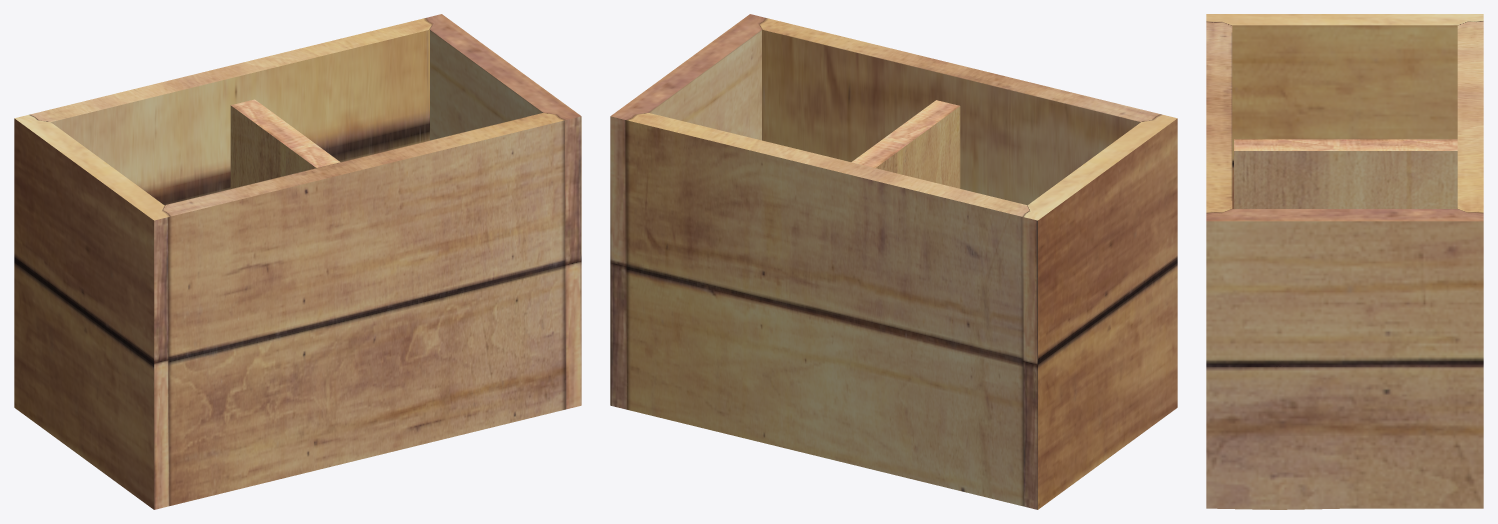
Rendered from Garden Bed 2.fbx.
3 renders of one model, left to right at view 1: azimuth 30°, elevation 25°; view 2: azimuth 150°, elevation 25°; view 3: azimuth 270°, elevation 25°, orthographic.
Visible parts, largest first — view 1: pasted__pasted__pCube5, pasted__pasted__pCube6; view 2: pasted__pasted__pCube5, pasted__pasted__pCube6; view 3: pasted__pasted__pCube5, pasted__pasted__pCube6.
Part boxes in pixels (box(x1,y1,x2,y2)): pasted__pasted__pCube5: box(14, 14, 581, 509); pasted__pasted__pCube6: box(230, 99, 340, 188); pasted__pasted__pCube5: box(610, 14, 1177, 509); pasted__pasted__pCube6: box(851, 100, 960, 188); pasted__pasted__pCube5: box(1206, 14, 1483, 509); pasted__pasted__pCube6: box(1234, 139, 1457, 208).
Bounding box in the file's own units: 81.46 × 52.34 × 45.82.
